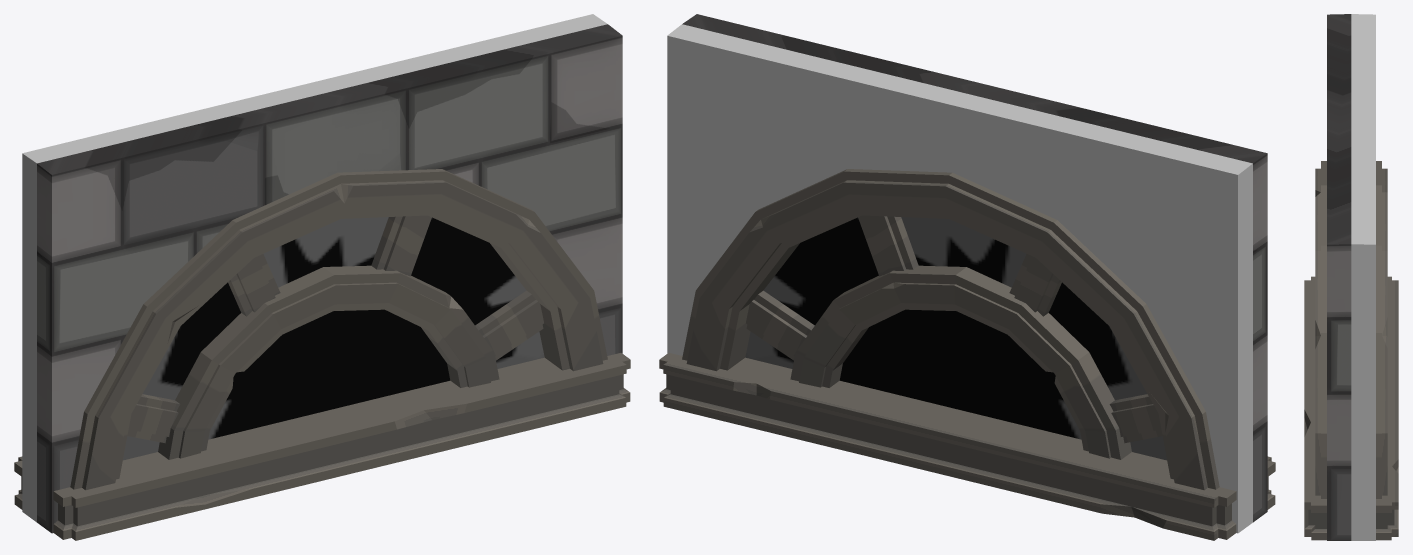
The model's file is SM_Bld_Wall_Window_04.fbx.
The picture shows the model from 3 angles, left to right: view 1: azimuth 30°, elevation 25°; view 2: azimuth 150°, elevation 25°; view 3: azimuth 270°, elevation 25°; orthographic projection. The views are drawn at different scales.
Visible parts, largest first — view 1: SM_Bld_Wall_Window_04; view 2: SM_Bld_Wall_Window_04; view 3: SM_Bld_Wall_Window_04.
Boxes of the visible parts, x1,y1,x2,y2 form: SM_Bld_Wall_Window_04: (14,14,630,540); SM_Bld_Wall_Window_04: (659,14,1275,540); SM_Bld_Wall_Window_04: (1304,14,1398,540).
Bounding box in the file's own units: 250 × 150 × 43.38.
